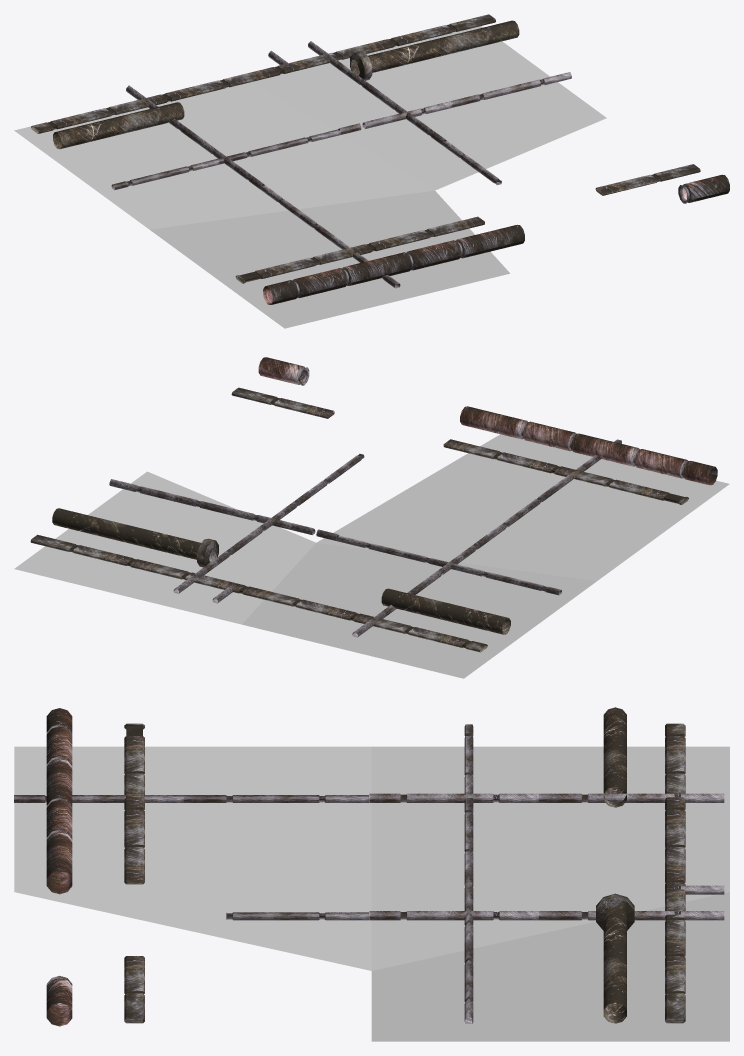
File: metalceiling4.fbx
3 views of the same model, one above another, from view 1: azimuth 30°, elevation 25°; view 2: azimuth 150°, elevation 25°; view 3: azimuth 270°, elevation 25° (orthographic). The views are drawn at different scales.
Visible parts, largest first — view 1: polySurface558; view 2: polySurface558; view 3: polySurface558.
Part boxes in pixels (x1,y1,x2,y2): polySurface558: [14, 14, 729, 328]; polySurface558: [14, 357, 729, 678]; polySurface558: [14, 707, 729, 1041].
Size of the model in its own units: 146 by 19.93 by 149.
